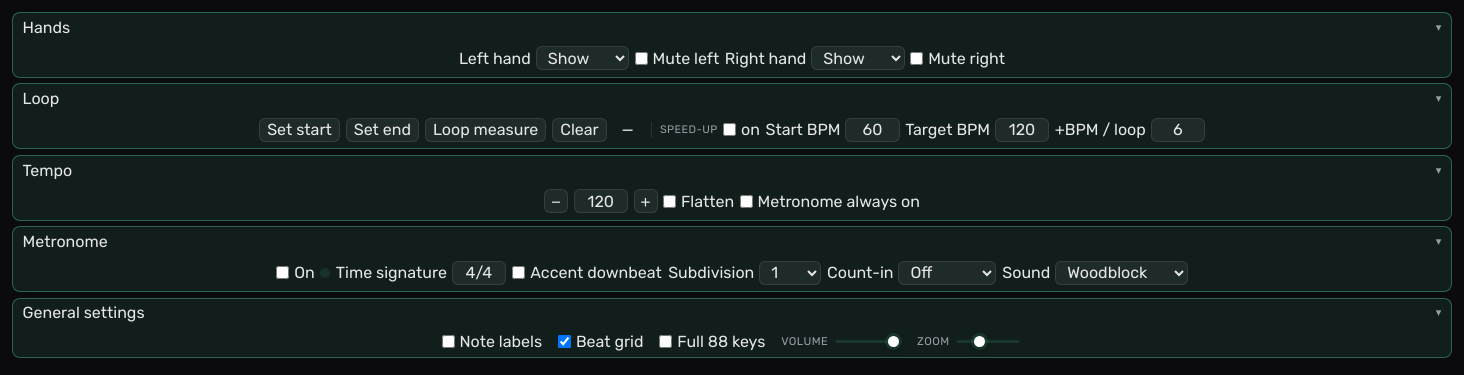
Test: PlayTools › collapsing a section removes its controls from the DOM
Expected: the button "Loop measure" is shown, [425, 118, 546, 142]
Click the button "Loop ▾": (41, 99) [13, 84, 1451, 113]
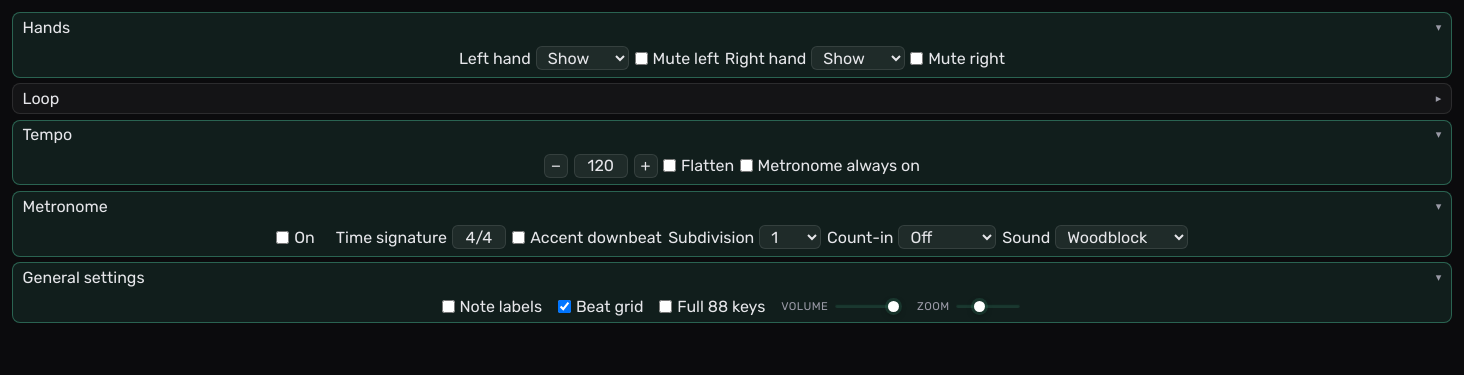
Expected: the button "Loop measure" is gone
